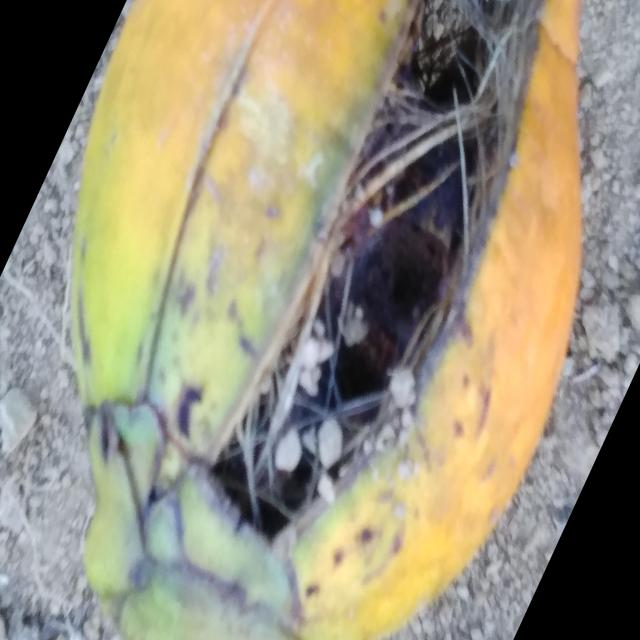damaged: (68, 0, 582, 640)
